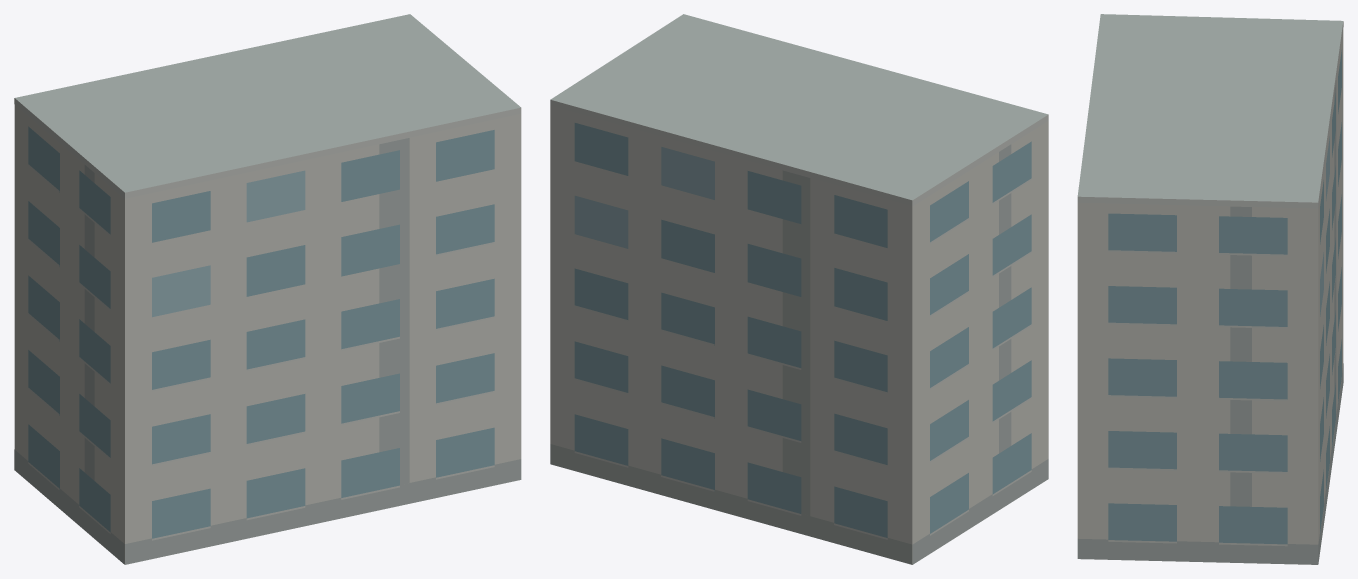
The model's file is survey-upis-33036008.glb.
3 views of the same model, side by side, from view 1: azimuth 30°, elevation 25°; view 2: azimuth 150°, elevation 25°; view 3: azimuth 270°, elevation 25° (orthographic). The views are drawn at different scales.
Visible parts, largest first — view 1: survey-upis-33036008.tmp; view 2: survey-upis-33036008.tmp; view 3: survey-upis-33036008.tmp.
Boxes of the visible parts, box(x1,y1,x2,y2) form: survey-upis-33036008.tmp: box(14, 14, 521, 564); survey-upis-33036008.tmp: box(550, 14, 1048, 564); survey-upis-33036008.tmp: box(1077, 14, 1343, 564).
Bounding box in the file's own units: 16.2 × 14.5 × 9.65.
